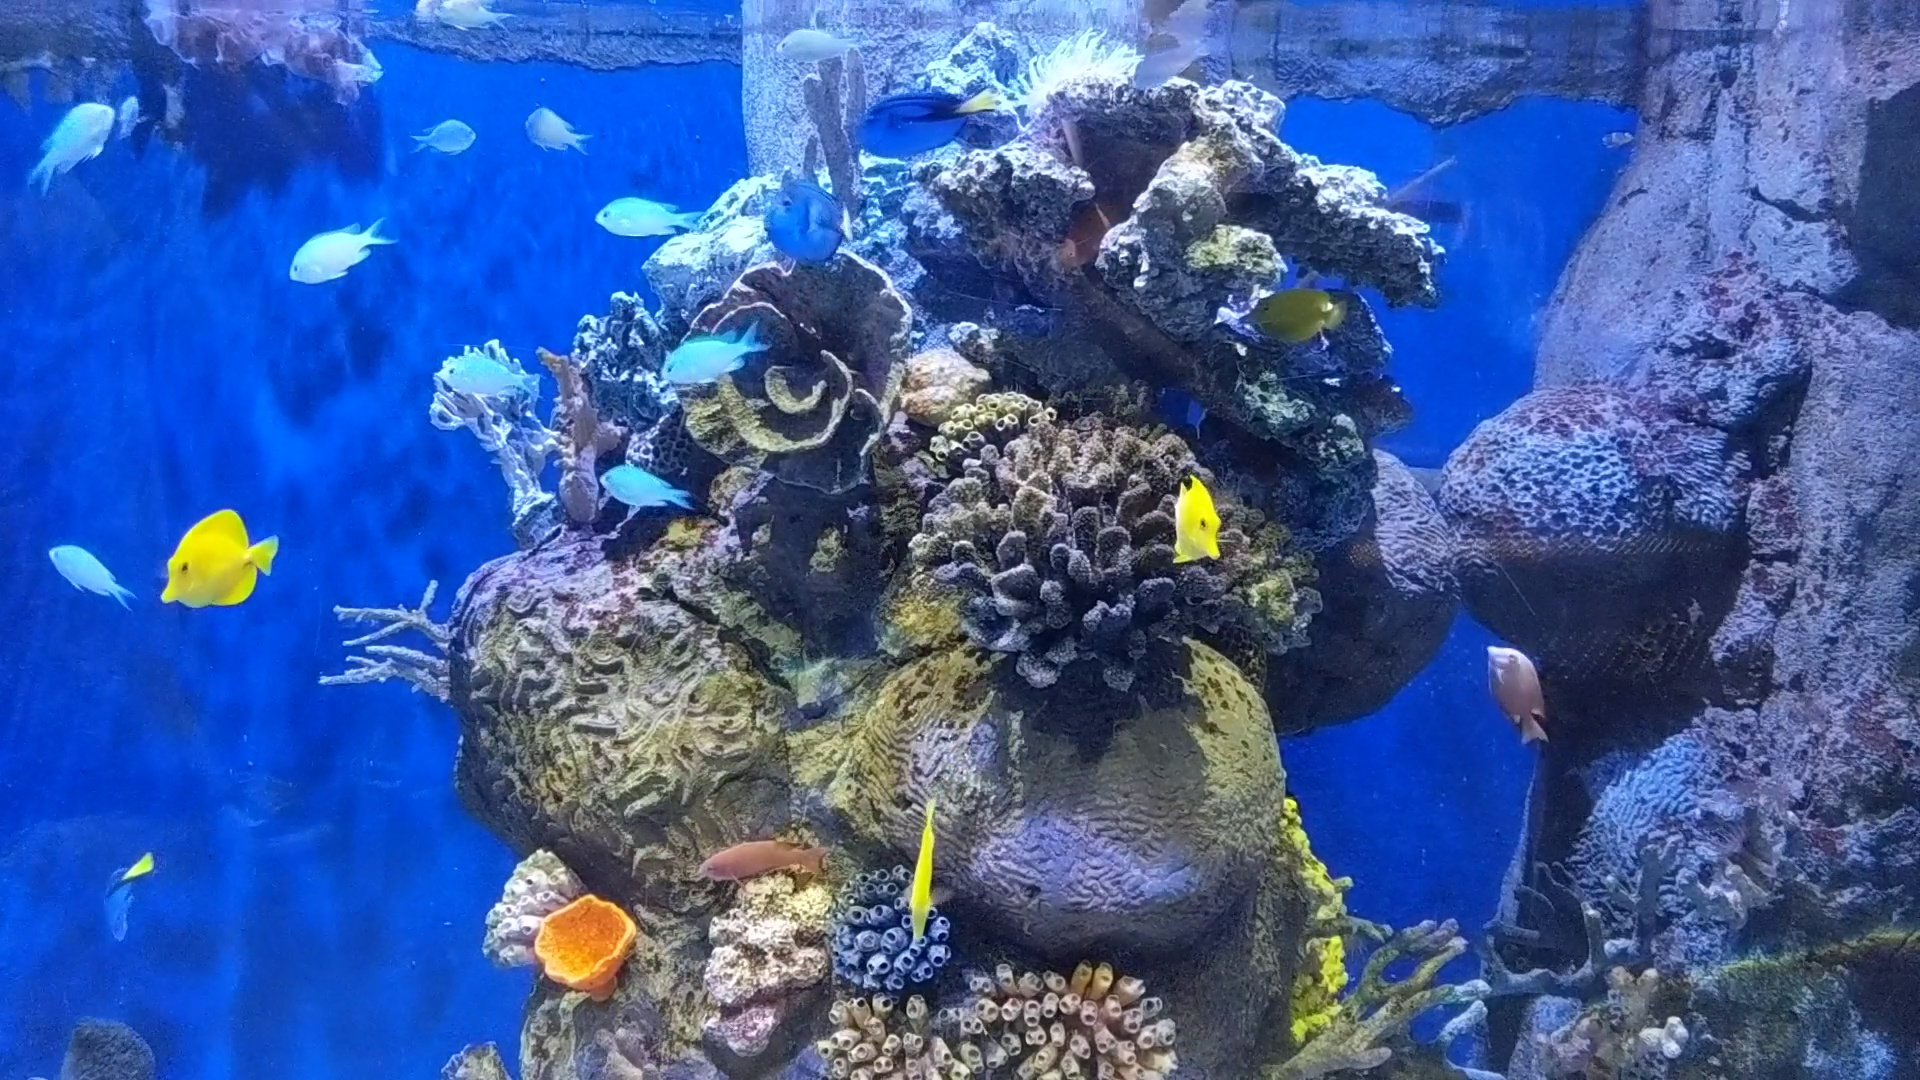blue tang surgeonfish: (837, 69, 1011, 161), (749, 164, 873, 258), (73, 858, 170, 959)
damselfish: (415, 330, 549, 422), (272, 203, 392, 291), (29, 526, 141, 616), (22, 84, 123, 185), (585, 187, 723, 249), (644, 322, 764, 388), (593, 450, 694, 526), (514, 88, 607, 160), (764, 22, 872, 73), (400, 107, 492, 164)
pink fish: (1474, 628, 1564, 750)
saddle butterfly fish: (141, 498, 298, 622), (1135, 448, 1244, 584), (1226, 249, 1360, 353), (885, 794, 951, 945)
